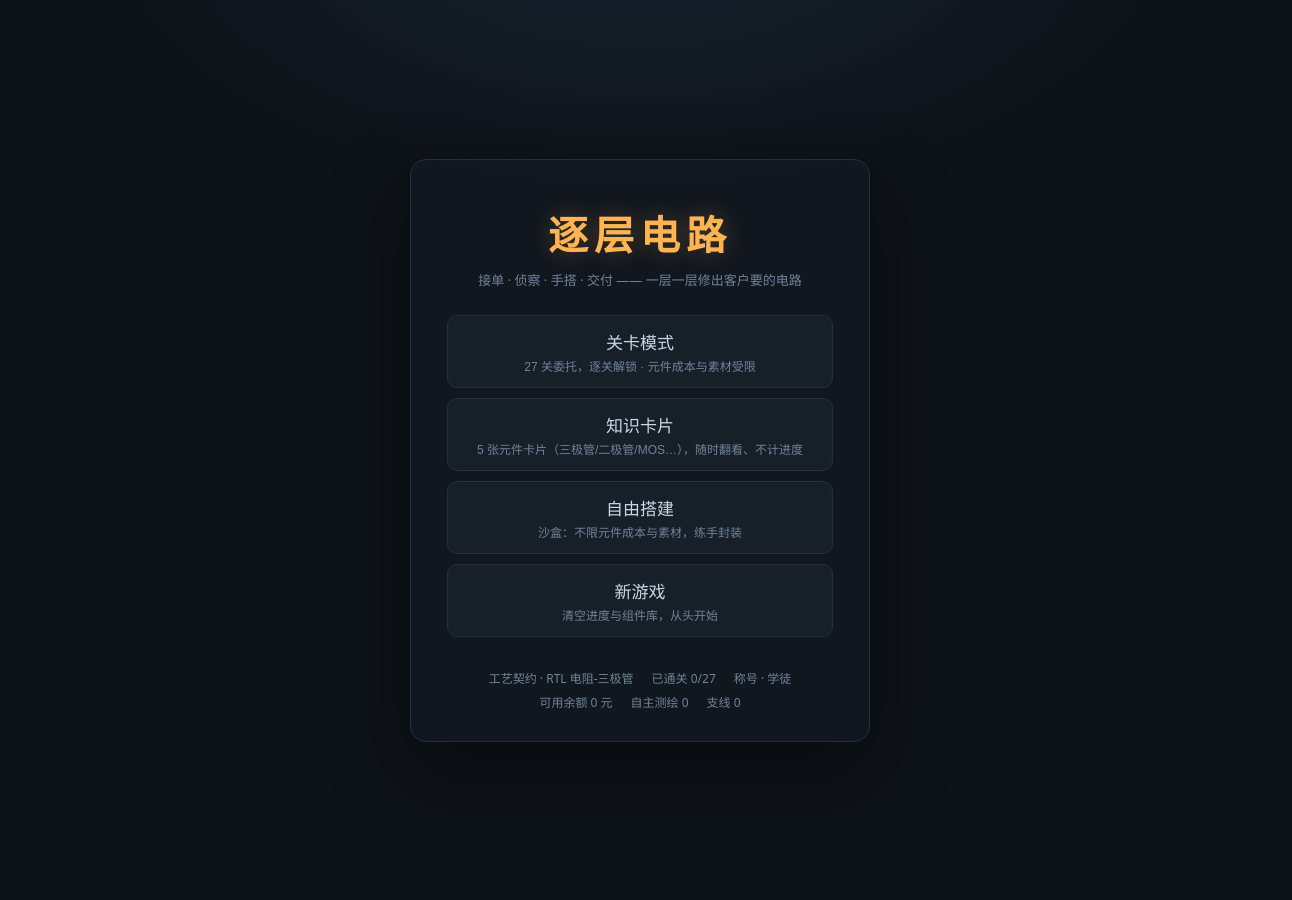
Test: 关卡模式只列有 levelId 的模块（自由模式搭的在关卡里全面不可见） › ③ 反证：自由模式本身照旧全列（不受影响）
This screenshot has width=1292, height=900.
What coordinates should you click on to do the following:
click the button "自由搭建 沙盒：不限元件成本与素材，练手封装"
I would click on:
 (640, 517)
Its box is [447, 480, 833, 554].
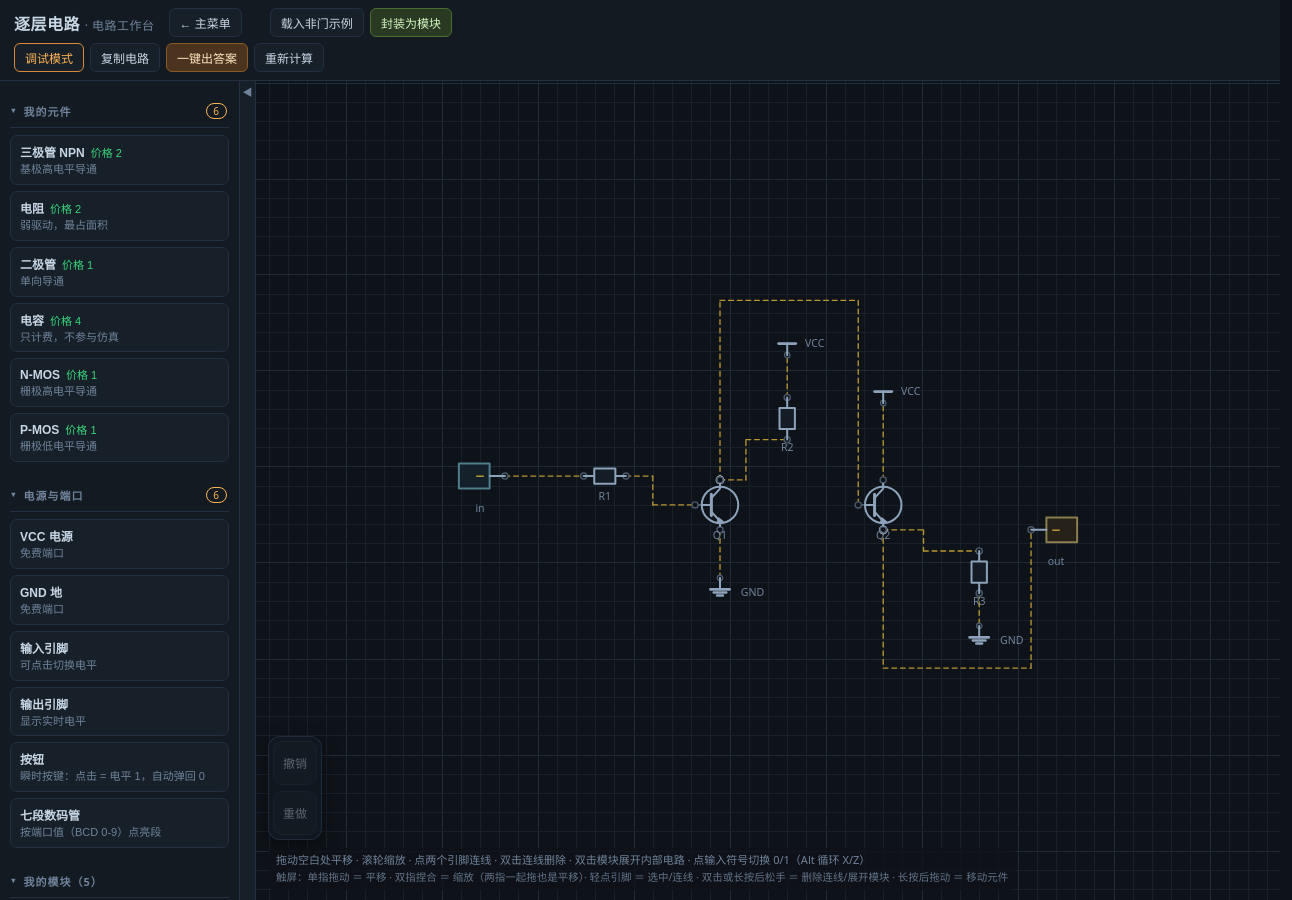
Result: the element that starts with "我的元件" is shown at [0, 81, 240, 899]
